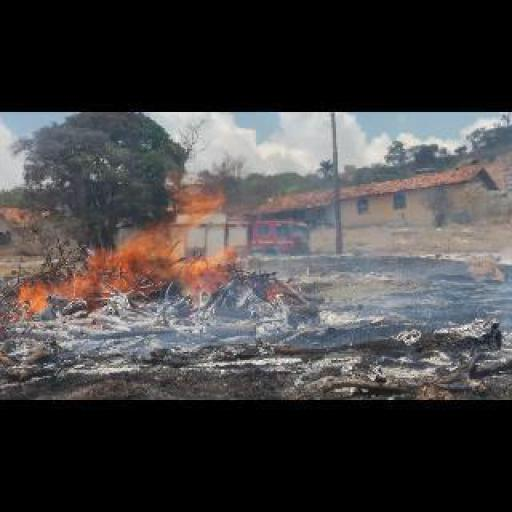smoke: (11, 164, 240, 306), (266, 282, 283, 302)
